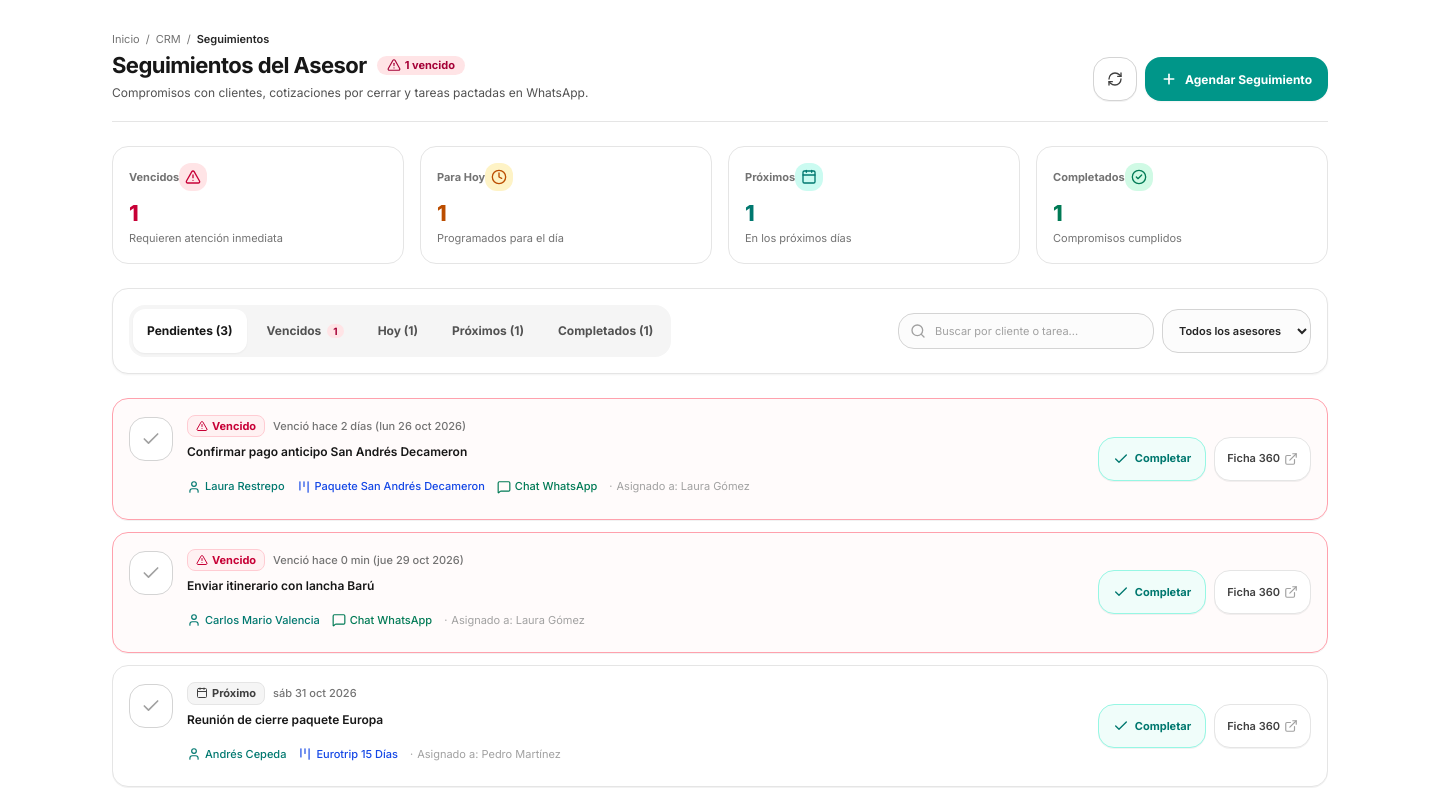
Test: SeguimientosPage (T-101) › 3. Filtra por la pestaña Vencidos al hacer clic en el tab o KPI
Expected: the heading "Confirmar pago anticipo San Andrés Decameron" is shown, [187,444,467,460]
Clic en tab Vencidos
What coordinates should you click on to do the following:
click the button with test id "tab-vencidos"
I would click on:
 (305, 331)
Its box is [252,309,358,353].
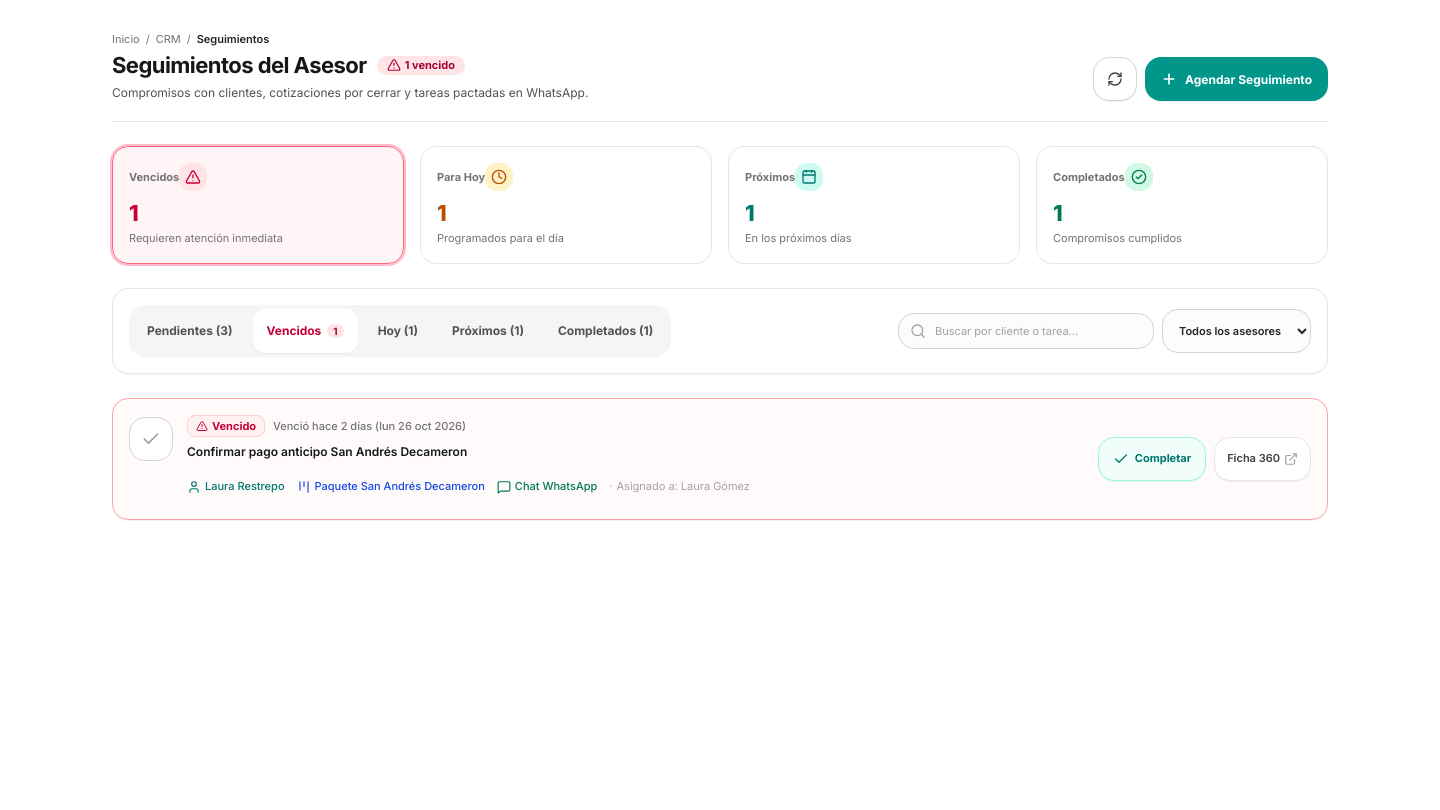
Expected: the heading "Confirmar pago anticipo San Andrés Decameron" is shown, [187,444,467,460]
Now the heading "Reunión de cierre paquete Europa" is gone
